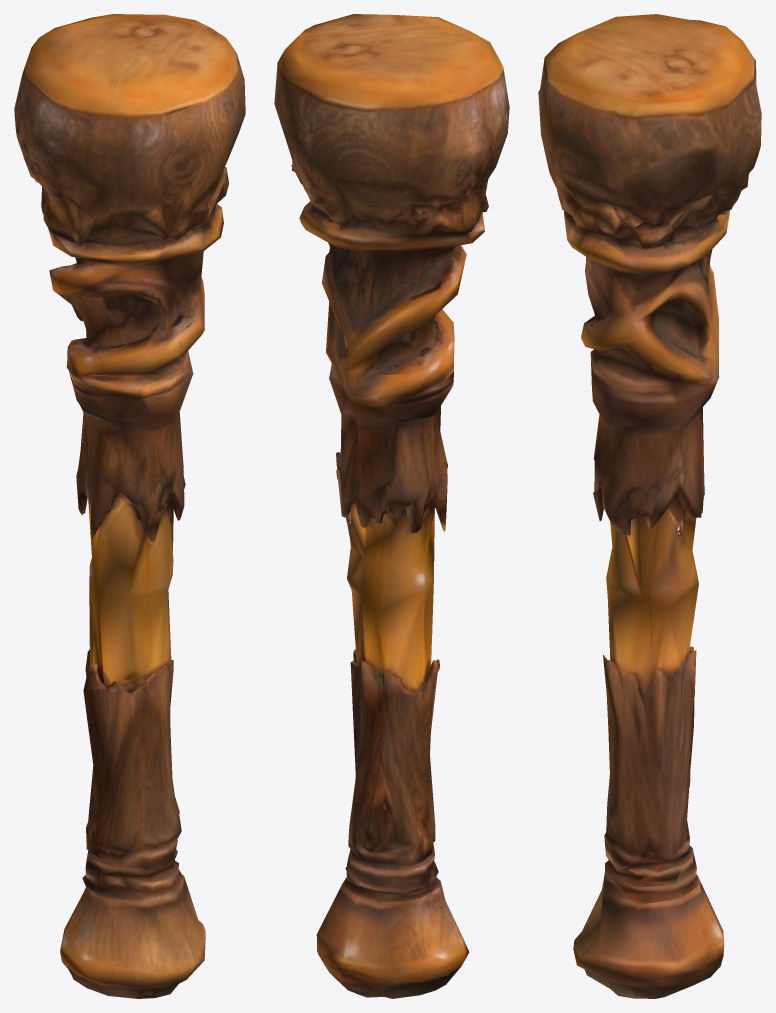
Rendered from 1496_club.glb.
The picture shows the model from 3 angles, left to right: view 1: azimuth 30°, elevation 25°; view 2: azimuth 150°, elevation 25°; view 3: azimuth 270°, elevation 25°; orthographic projection.
Visible parts, largest first — view 1: Model; view 2: Model; view 3: Model.
Boxes of the visible parts, <box> form: Model: <box>14,14,245,998</box>; Model: <box>274,14,509,998</box>; Model: <box>538,14,761,998</box>.
Bounding box in the file's own units: 0.2264 × 1 × 0.2147.
1 material, 1 textured.
